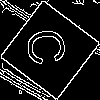C: (25, 25, 76, 67)
